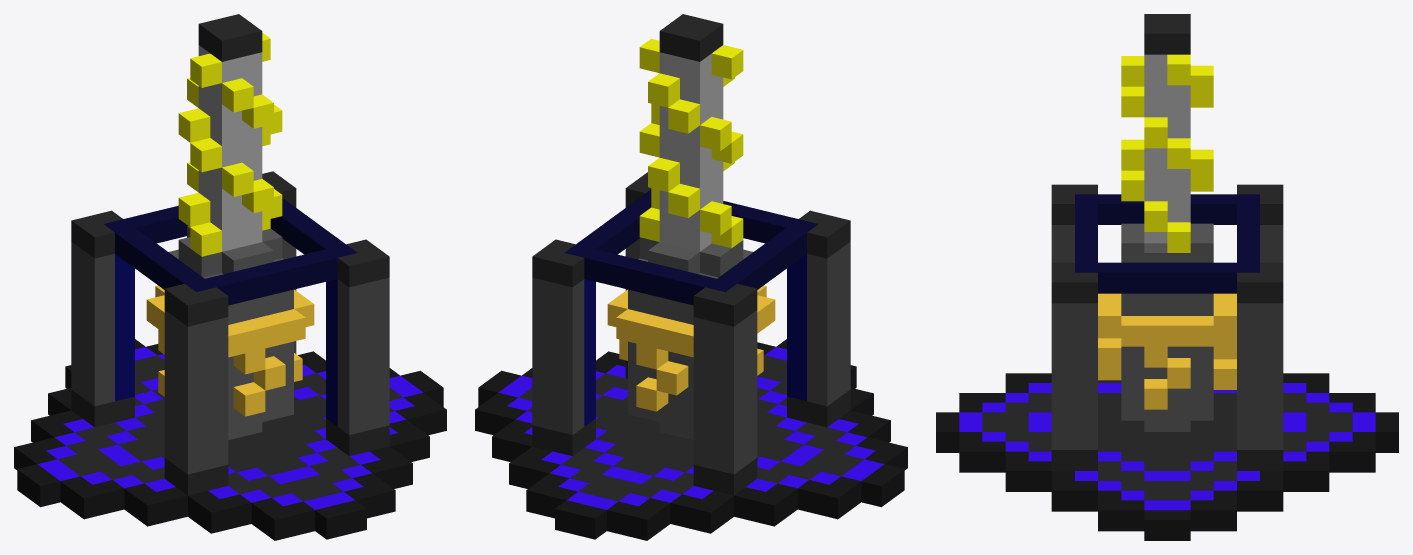
File: Lightning_Standard.obj
3 views of the same model, side by side, from view 1: azimuth 30°, elevation 25°; view 2: azimuth 150°, elevation 25°; view 3: azimuth 270°, elevation 25° (orthographic).
Visible parts, largest first — view 1: Lightning_Standard; view 2: Lightning_Standard; view 3: Lightning_Standard.
Part boxes in pixels (bbox=[...]): Lightning_Standard: bbox=[14, 14, 446, 540]; Lightning_Standard: bbox=[475, 14, 907, 540]; Lightning_Standard: bbox=[936, 14, 1398, 540].
Bounding box in the file's own units: 20 × 20 × 20.
Materials: 1 (1 with a texture image).
